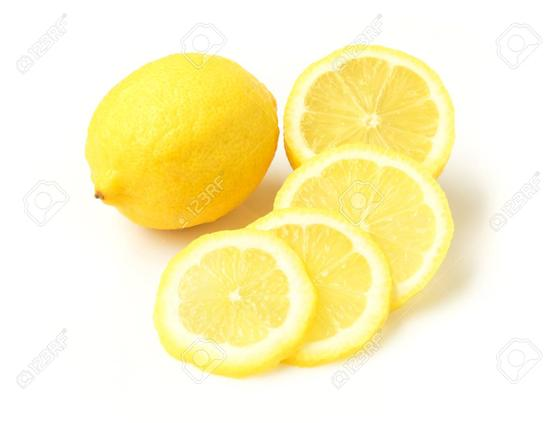lemon: (89, 50, 281, 232)
